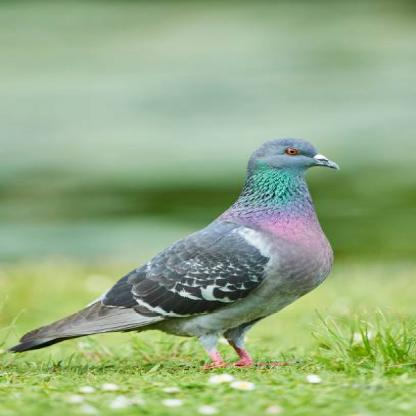Rock Pigeon: (21, 136, 343, 356)
